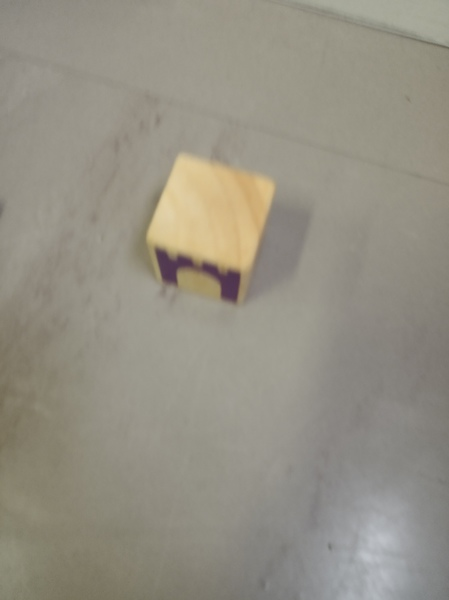violet: (144, 158, 261, 308)
